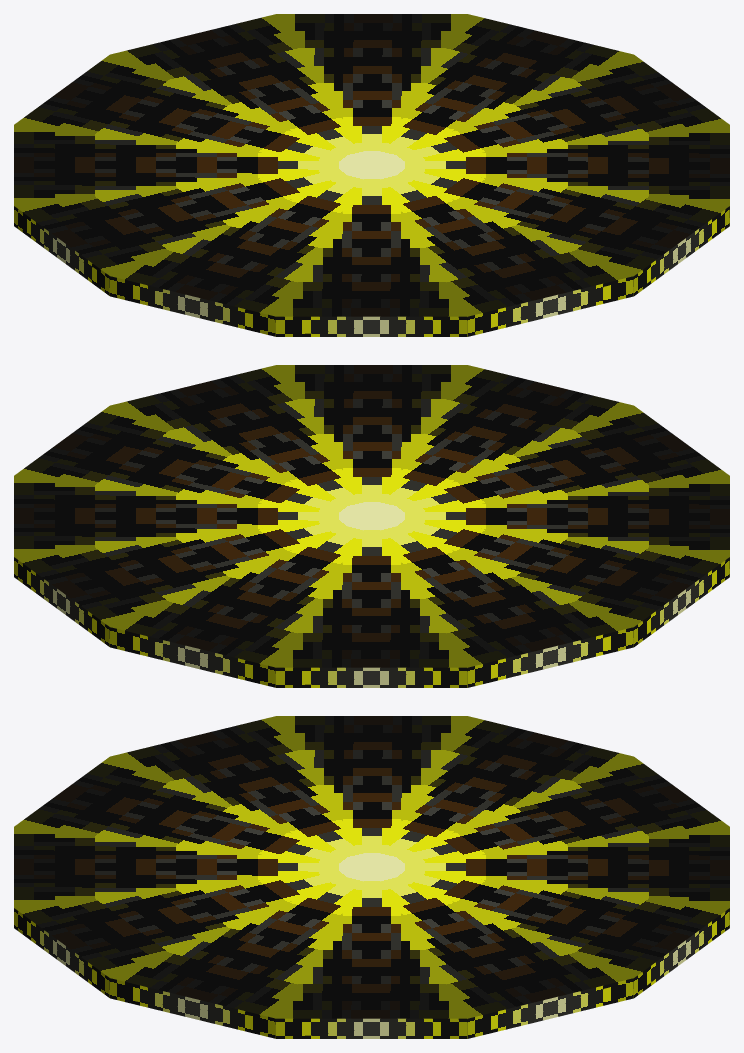
File: Coin.fbx
The picture shows the model from 3 angles, top to bottom: view 1: azimuth 30°, elevation 25°; view 2: azimuth 150°, elevation 25°; view 3: azimuth 270°, elevation 25°; orthographic projection.
Visible parts, largest first — view 1: cylinder; view 2: cylinder; view 3: cylinder.
Boxes of the visible parts, left/top/right/bottom form: cylinder: left=14, top=14, right=729, bottom=336; cylinder: left=14, top=365, right=729, bottom=687; cylinder: left=14, top=716, right=729, bottom=1038.
Bounding box in the file's own units: 100 × 3.12 × 100.
Materials: 2 (2 with a texture image).
